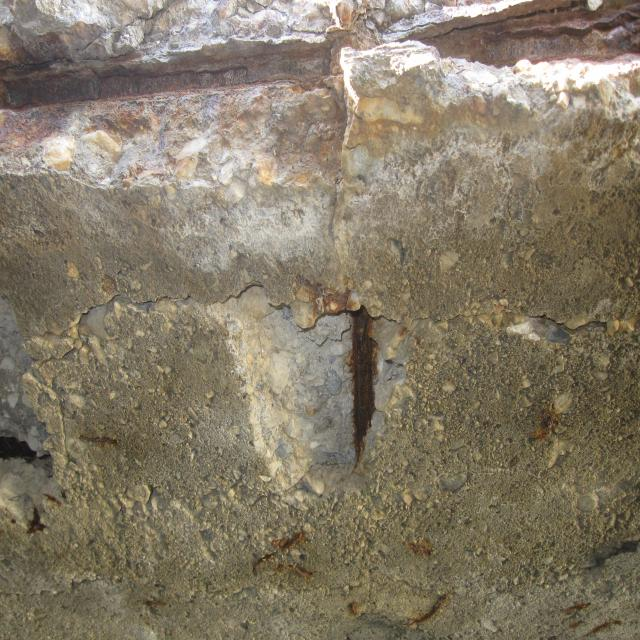corrosion: (0, 29, 364, 148), (241, 510, 462, 634), (405, 0, 640, 72), (0, 418, 130, 540), (312, 287, 386, 484), (537, 587, 640, 639), (525, 392, 562, 453), (139, 579, 176, 618)
